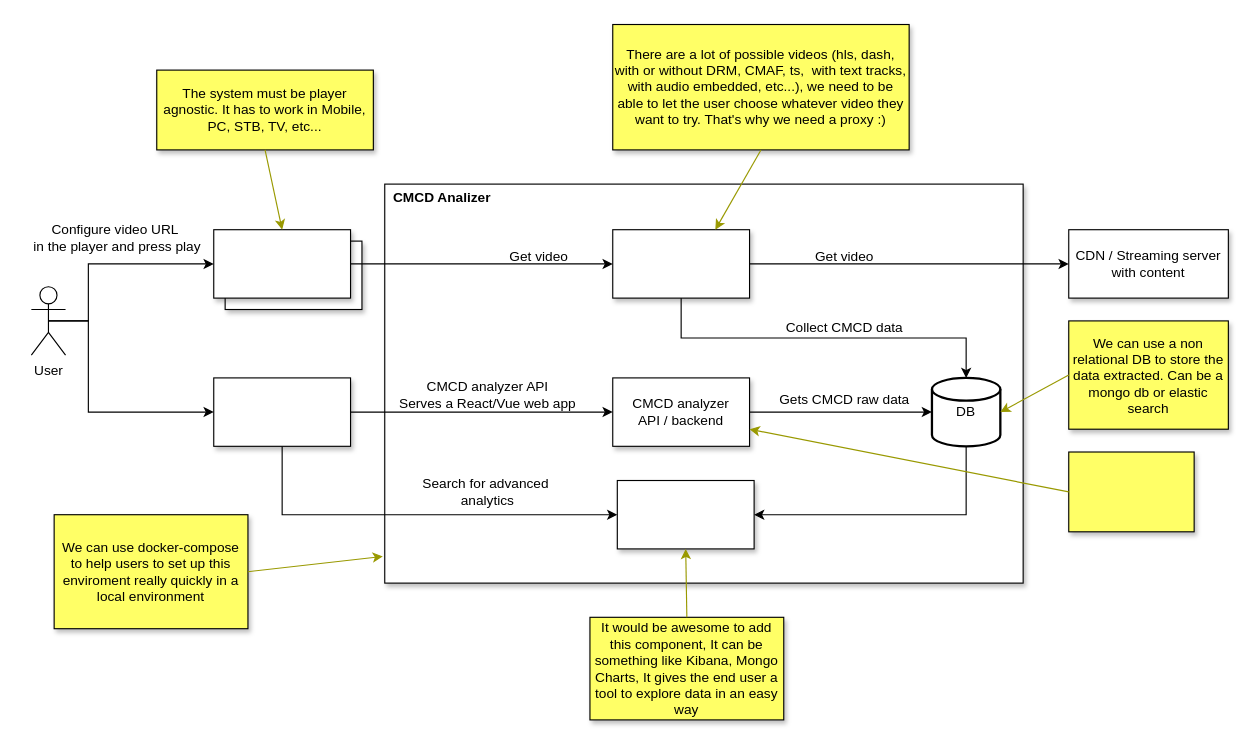
Some shapes in this 1255 by 748 pixel diagram are drawn without their labels. The centre of each missing label's shape, as x and y in pixels:
Advanced Data analyzer: (686,516)
CMCD Extractor (Web proxy): (681,265)
Uses the CMCD analyzer library done in Milestone 1: (1132,493)
Video Players: (282,265)
Web Browser: (282,413)
